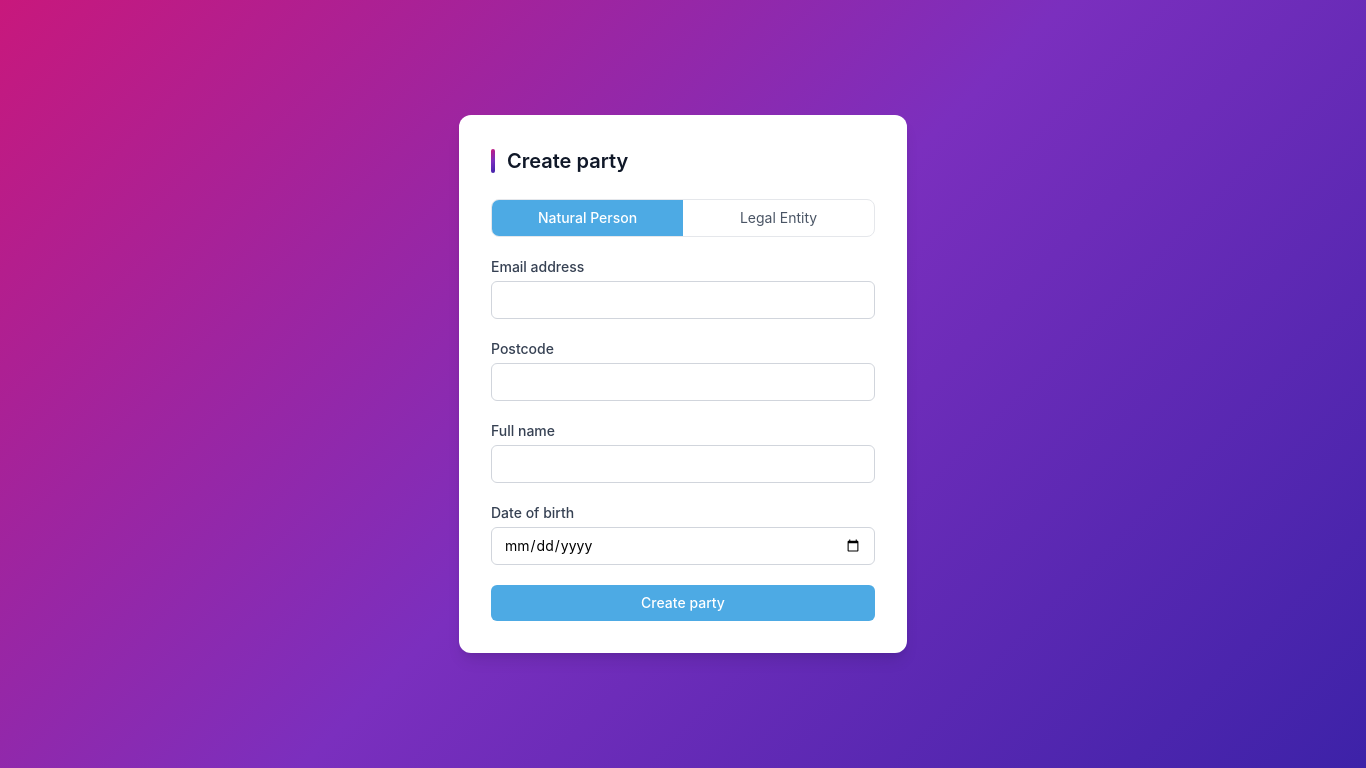
it: App › shows Legal Entity fields and hides Natural Person fields when Legal Entity is selected
Click the radio button labelled "Legal Entity" at (778, 218), box [740, 209, 817, 226]
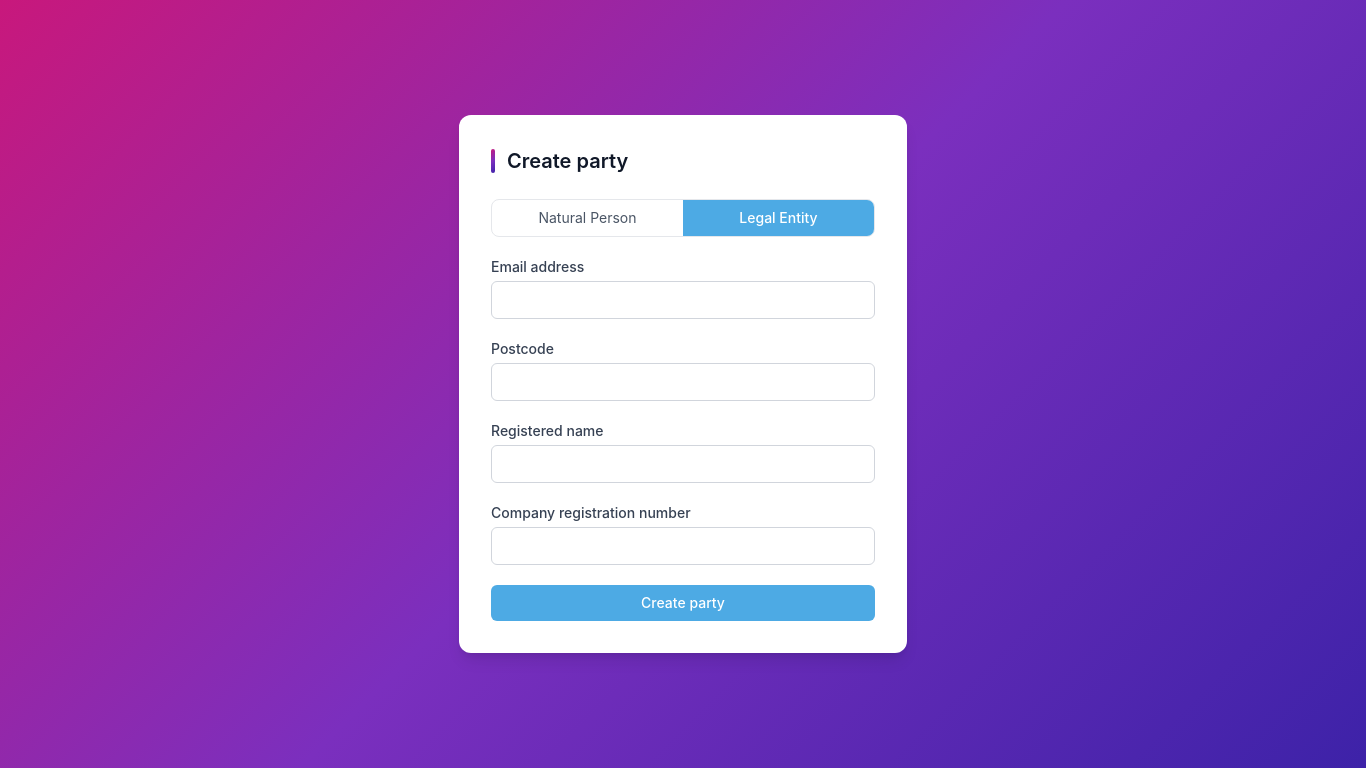
Now the field labelled "Company registration number" is shown, box [491, 527, 875, 565]
Now the label labelled "Full name" is gone
Now the label labelled "Date of birth" is gone
